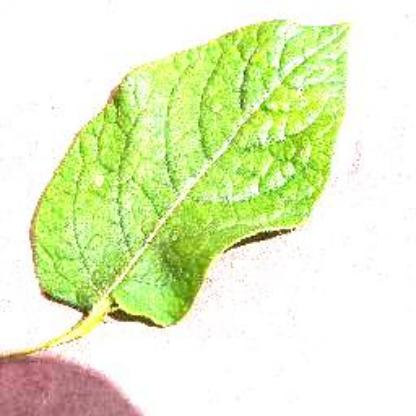Healthy-plant: (27, 18, 352, 332)
